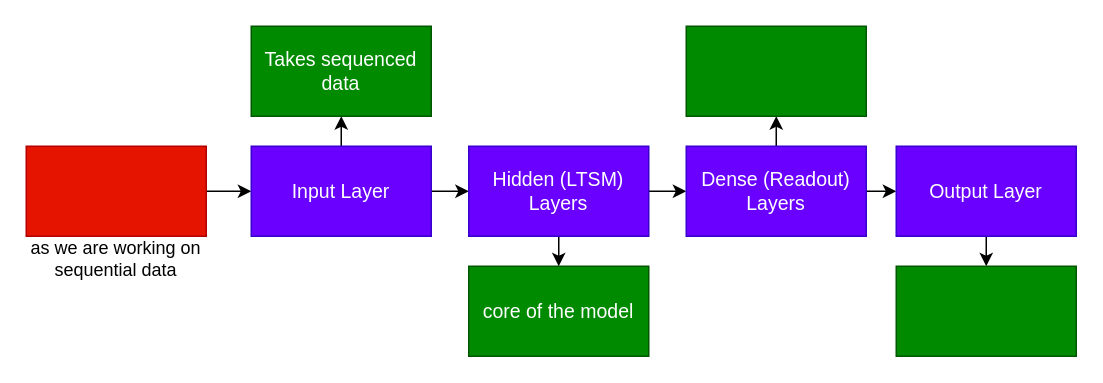
This 1103x383 diagram has some shape labels left out. Here are the shapes that lost their labels. From the top down, the centre of each, then its label:
At point 775,70: "fully-connected neural network layer".
At point 115,190: "LTSM Architecture (RNN)".
At point 985,310: "single neuron that outputs the final, scaled prediction".
